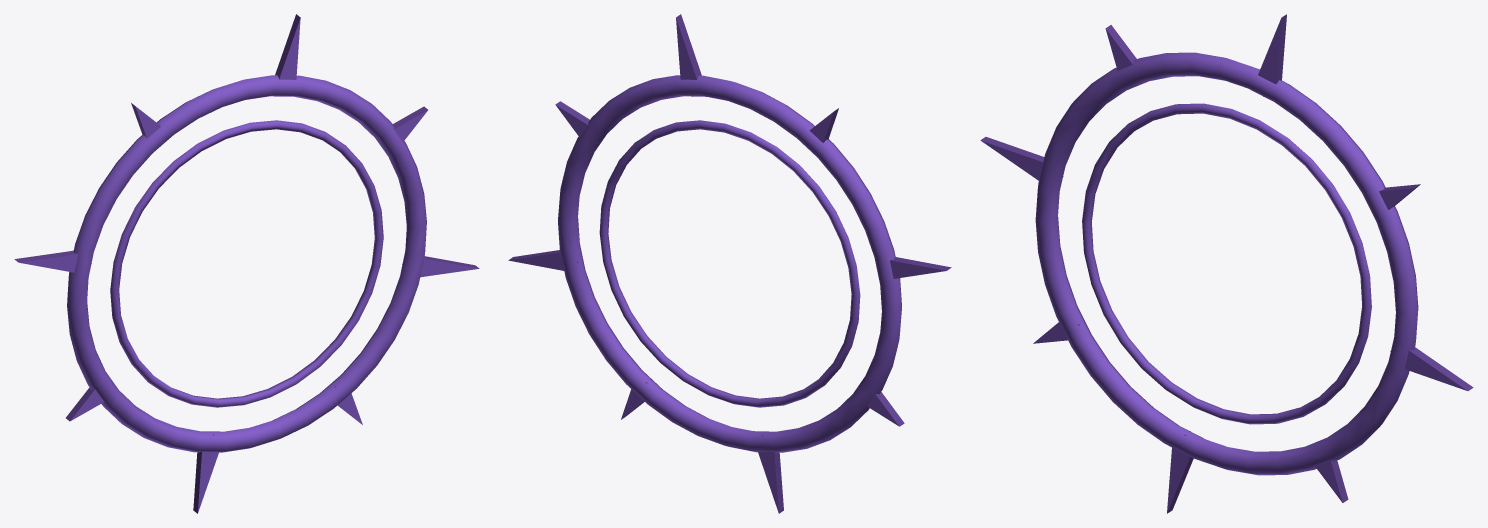
Rendered from dark_mage_parts.glb.
The picture shows the model from 3 angles, left to right: view 1: azimuth 30°, elevation 25°; view 2: azimuth 150°, elevation 25°; view 3: azimuth 330°, elevation 25°; orthographic projection. The views are drawn at different scales.
Parts seen in each view (by area): view 1: r0_CC_Base_Head; view 2: r0_CC_Base_Head; view 3: r0_CC_Base_Head.
Part boxes in pixels (x1=…): r0_CC_Base_Head: x1=14, y1=14, x2=479, y2=513; r0_CC_Base_Head: x1=508, y1=14, x2=951, y2=513; r0_CC_Base_Head: x1=980, y1=14, x2=1473, y2=513.
Size of the model in its own units: 0.8675 by 0.8678 by 0.0607.
